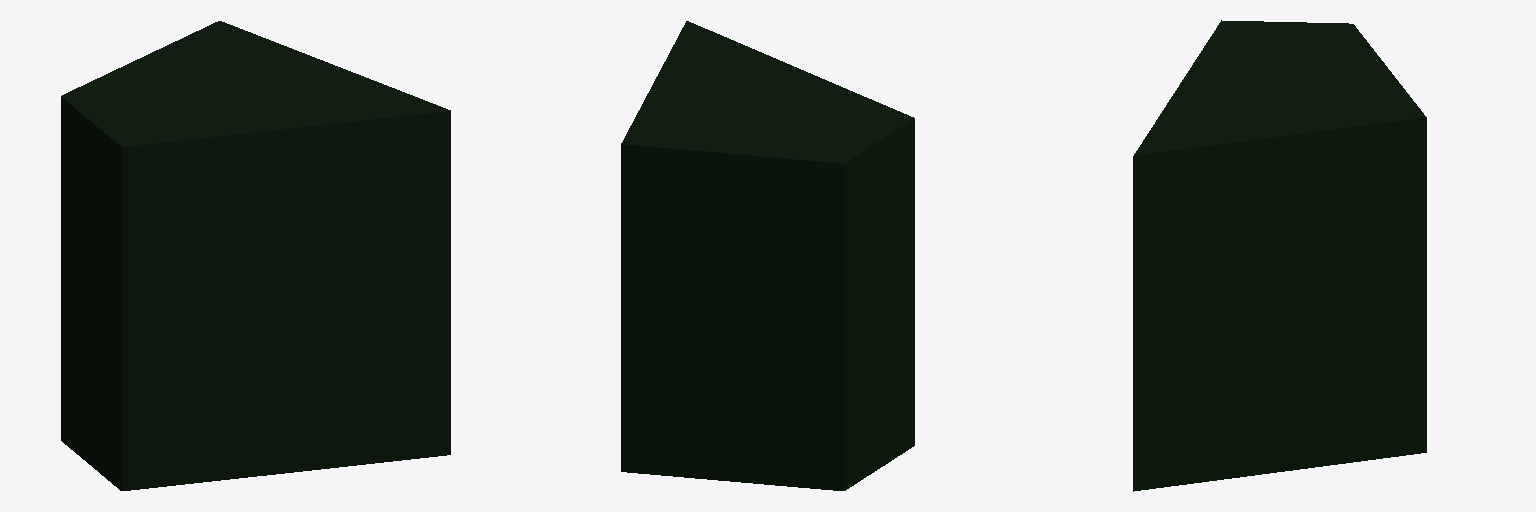
The robot description file, URDF, robot "quad_prism_5":
<?xml version="1.0" ?>
<robot name="quad_prism_5">
  <link name="base_link">
    <visual>
      <origin xyz="0 0 0" rpy="0 0 0"/>
      <geometry>
        <mesh filename="quad_prism_5.stl"/>
      </geometry>
      <material name="color">
        <color rgba="0.07380892458780897 0.13272015417511362 0.07420849977298127 1.0"/>
      </material>
    </visual>
    <collision>
      <origin xyz="0 0 0" rpy="0 0 0"/>
      <geometry>
        <mesh filename="quad_prism_5.stl"/>
      </geometry>
    </collision>
    <inertial>
      <origin xyz="0 0 0" rpy="0 0 0"/>
      <mass value="1.0"/>
      <inertia ixx="0.1" ixy="0" ixz="0" iyy="0.1" iyz="0" izz="0.1"/>
    </inertial>
  </link>
</robot>

--- What the picture shows (computed from the rendered views, not written in the file) ---
The picture shows the robot from 3 angles, left to right: view 1: azimuth 30°, elevation 25°; view 2: azimuth 150°, elevation 25°; view 3: azimuth 270°, elevation 25°; orthographic projection.
Model quad_prism_5 with 1 links and 0 joints (none), rooted at base_link, posed every joint at zero.
Visible links, largest first — view 1: base_link; view 2: base_link; view 3: base_link.
Boxes of the visible links, left/top/right/bottom form: base_link: left=61, top=21, right=450, bottom=490; base_link: left=621, top=21, right=914, bottom=490; base_link: left=1133, top=20, right=1426, bottom=491.
Size in the robot's own frame: 2.6 by 2.37 by 3 metres.
Meshes: 1 distinct files referenced, 1 mesh visuals loaded (1 binary STL).